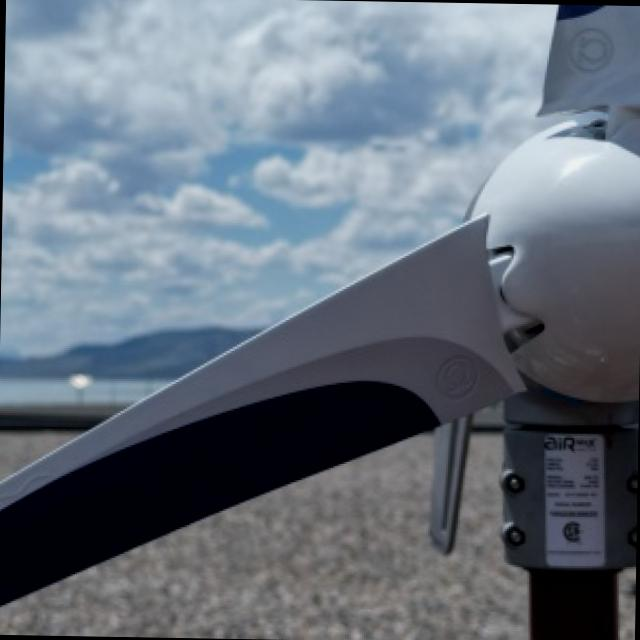healthy: (0, 431, 525, 640)
